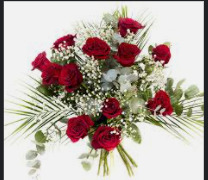RedRose: (62, 110, 94, 144), (89, 123, 122, 154), (145, 87, 174, 119), (84, 35, 112, 65), (59, 64, 83, 95), (115, 41, 142, 68), (115, 14, 145, 38), (27, 46, 51, 74), (52, 28, 78, 53), (39, 61, 64, 85), (148, 41, 171, 67), (101, 93, 123, 120)
